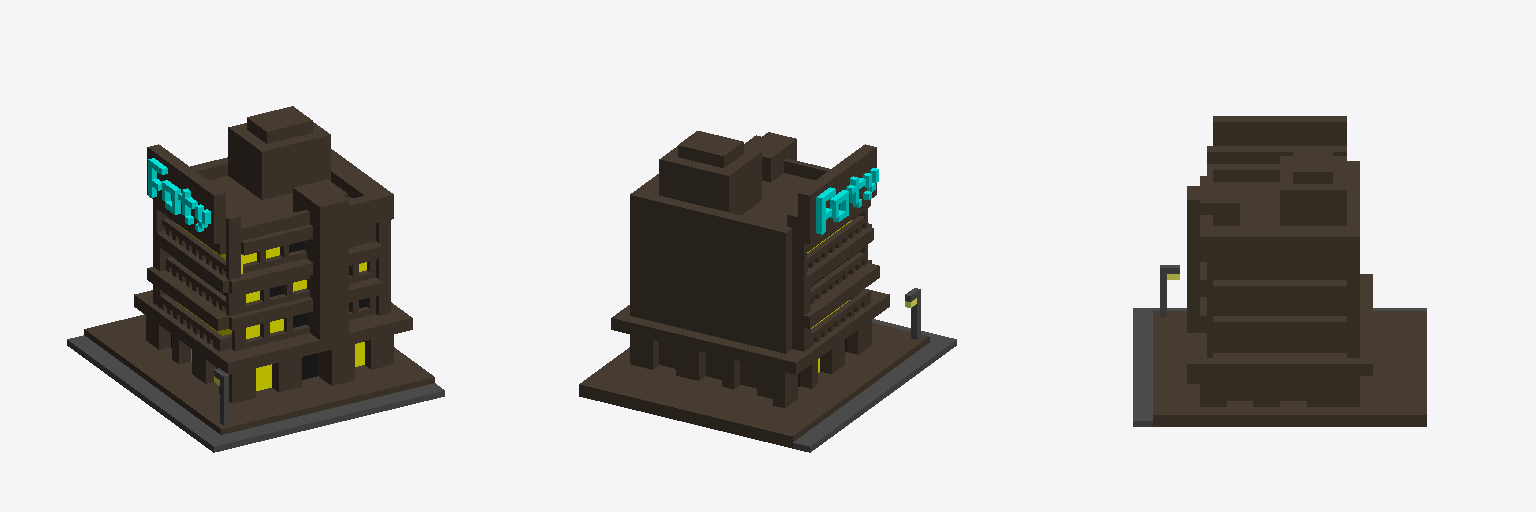
3 views of the same model, side by side, from view 1: azimuth 30°, elevation 25°; view 2: azimuth 150°, elevation 25°; view 3: azimuth 270°, elevation 25° (orthographic).
Visible parts, largest first — view 1: object 1; view 2: object 1; view 3: object 1.
Part boxes in pixels (x1,y1,x2,y2): object 1: (67, 106, 444, 452); object 1: (579, 131, 956, 452); object 1: (1133, 116, 1426, 426).
Bounding box in the file's own units: 4 × 3.8 × 4.4.
1 materials, 1 textured.